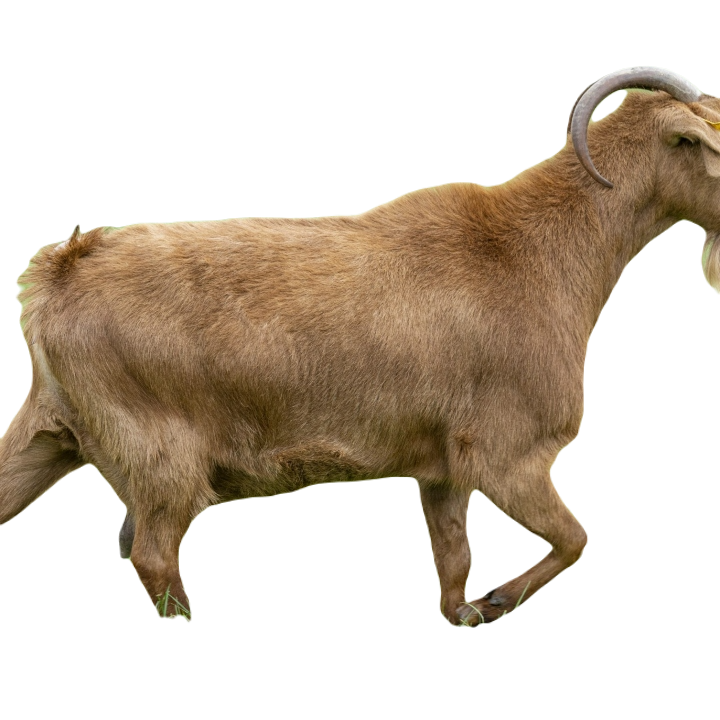Goat: (0, 64, 719, 619)
